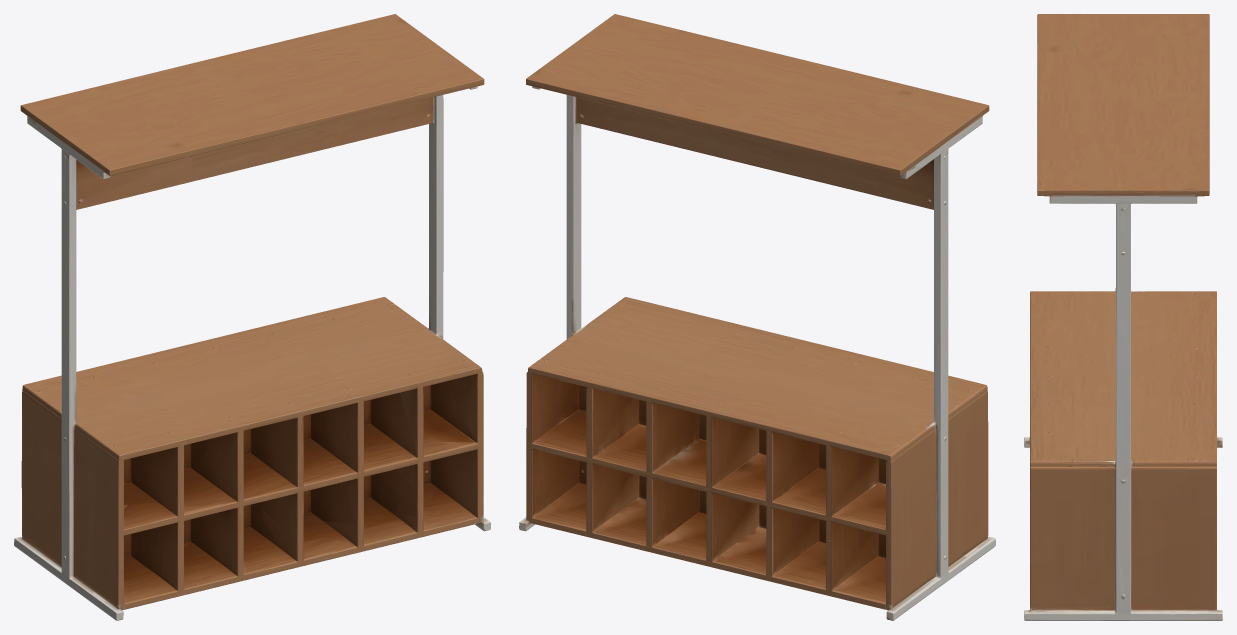
The model's file is shoe_cabinet_furniture_hanger_atomizr.glb.
3 views of the same model, side by side, from view 1: azimuth 30°, elevation 25°; view 2: azimuth 150°, elevation 25°; view 3: azimuth 270°, elevation 25° (orthographic). The views are drawn at different scales.
Parts seen in each view (by area): view 1: Object_2; view 2: Object_2; view 3: Object_2.
Boxes of the visible parts, box(x1,y1,x2,y2) form: Object_2: box(14, 14, 490, 620); Object_2: box(519, 14, 995, 620); Object_2: box(1024, 14, 1222, 620).
Bounding box in the file's own units: 0.7605 × 0.8634 × 0.3598.
1 material, 1 textured.
